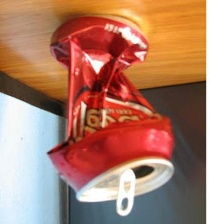can: (42, 13, 182, 218)
